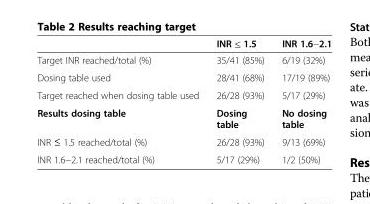table: (36, 37, 331, 164)
table column: (36, 37, 206, 164), (206, 37, 272, 164), (272, 37, 331, 164)
table column header: (36, 37, 331, 51)
table row: (36, 103, 331, 132), (36, 68, 331, 86), (36, 132, 331, 150), (36, 51, 331, 68), (36, 86, 331, 103), (36, 37, 331, 51), (36, 150, 331, 164)
